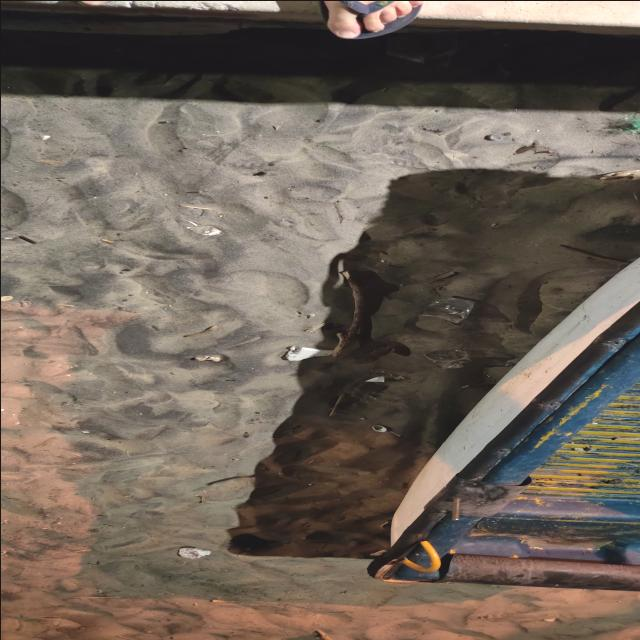Disposable plastic cup: (422, 295, 473, 322), (423, 349, 471, 368)
Rope - strings: (621, 116, 640, 134)
Unlabeled litter: (284, 345, 331, 360), (364, 375, 383, 382)
